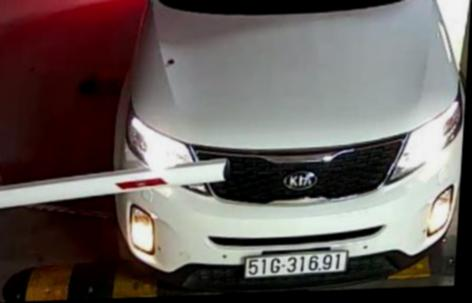License_Plate: (238, 244, 353, 282)
